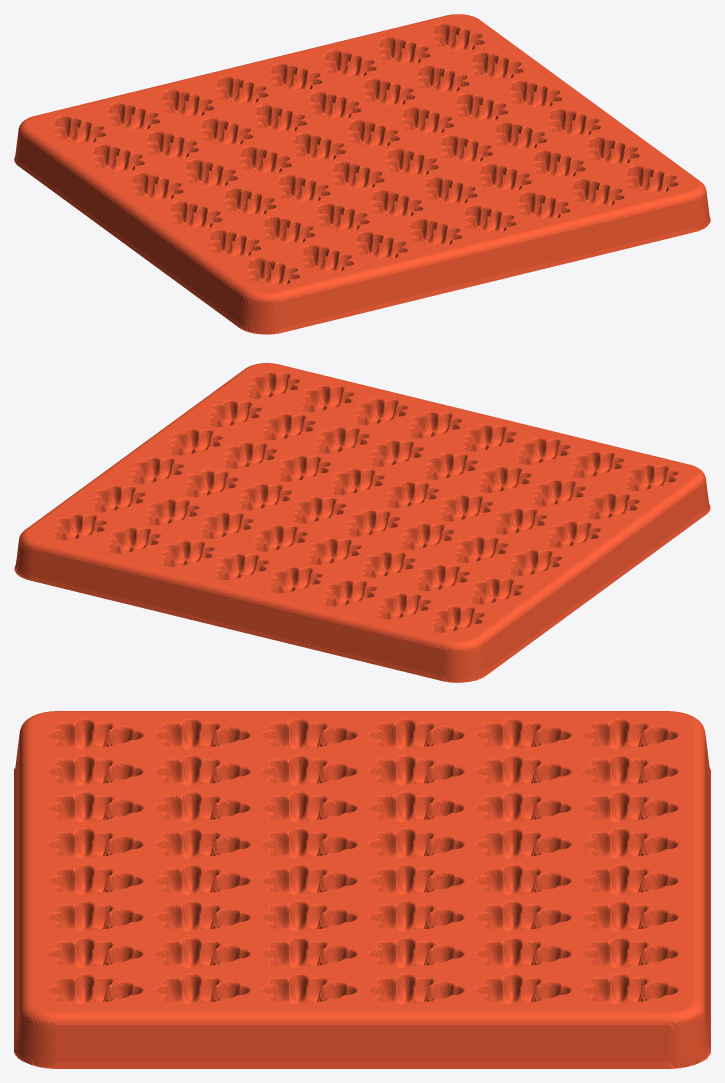
The model's file is mold.glb.
3 views of the same model, one above another, from view 1: azimuth 30°, elevation 25°; view 2: azimuth 150°, elevation 25°; view 3: azimuth 270°, elevation 25° (orthographic). The views are drawn at different scales.
Visible parts, largest first — view 1: geometry_0; view 2: geometry_0; view 3: geometry_0.
Part boxes in pixels (left/top/right/bottom): geometry_0: left=14, top=14, right=710, bottom=334; geometry_0: left=14, top=363, right=710, bottom=682; geometry_0: left=14, top=711, right=710, bottom=1068.
Bounding box in the file's own units: 0.1542 × 0.0113 × 0.1443.
